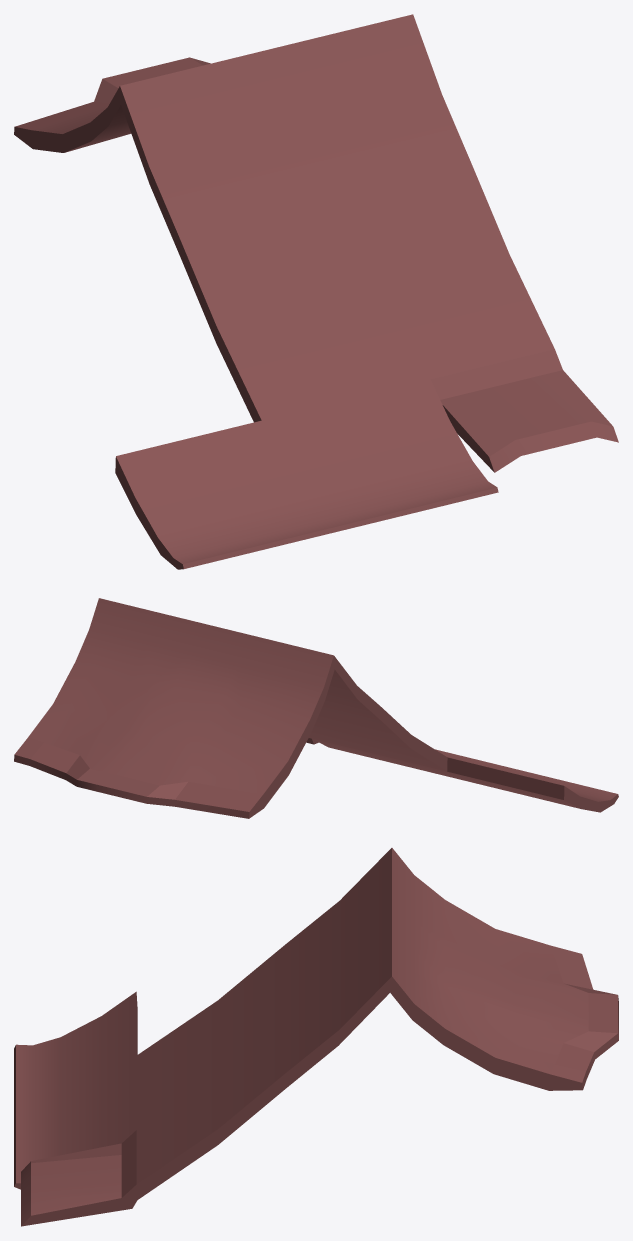
File: MainRoof.fbx
3 views of the same model, one above another, from view 1: azimuth 30°, elevation 25°; view 2: azimuth 150°, elevation 25°; view 3: azimuth 270°, elevation 25° (orthographic). The views are drawn at different scales.
Parts seen in each view (by area): view 1: MainRoof; view 2: MainRoof; view 3: MainRoof.
Part boxes in pixels (<box>): MainRoof: <box>14,14,618,569</box>; MainRoof: <box>14,598,618,818</box>; MainRoof: <box>14,848,618,1226</box>.
Bounding box in the file's own units: 0.4228 × 0.2753 × 0.5599.
